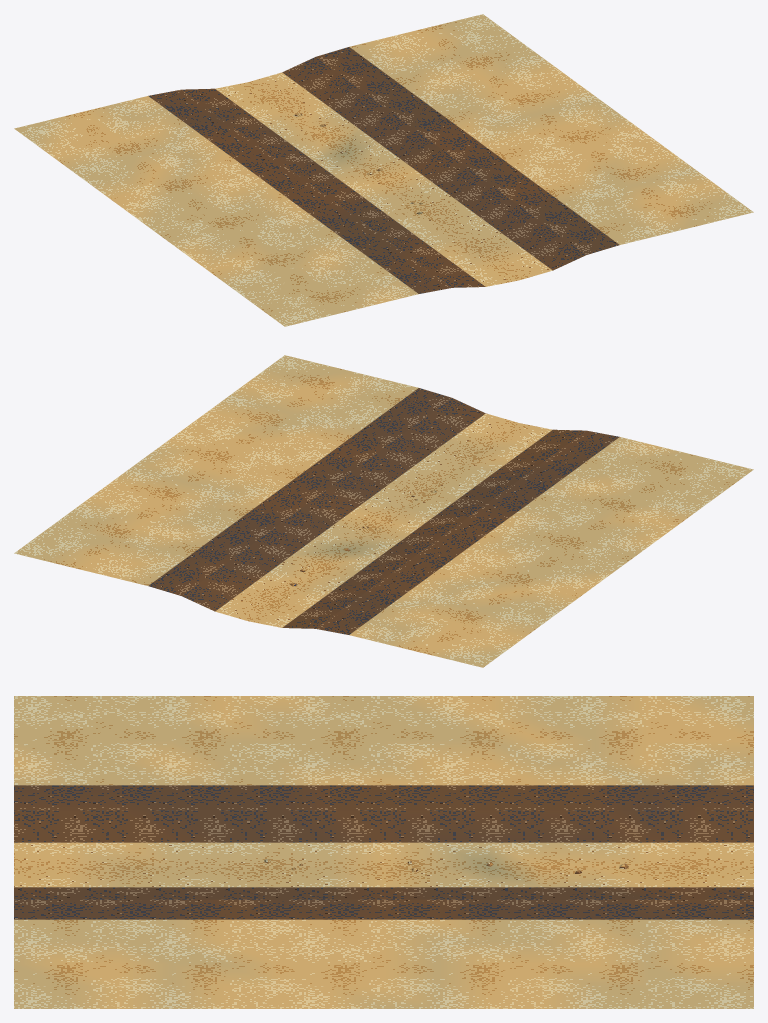
The model's file is wland.riverbed__canyon.glb.
3 renders of one model, top to bottom at view 1: azimuth 30°, elevation 25°; view 2: azimuth 150°, elevation 25°; view 3: azimuth 270°, elevation 25°, orthographic. The views are drawn at different scales.
Parts seen in each view (by area): view 1: kit_shell_ground; view 2: kit_shell_ground; view 3: kit_shell_ground.
Boxes of the visible parts, x1,y1,x2,y2 form: kit_shell_ground: [14, 14, 753, 326]; kit_shell_ground: [14, 355, 753, 667]; kit_shell_ground: [14, 696, 753, 1008].
Size of the model in its own units: 32 by 0.7 by 32.
Materials: 4 (4 with a texture image).
